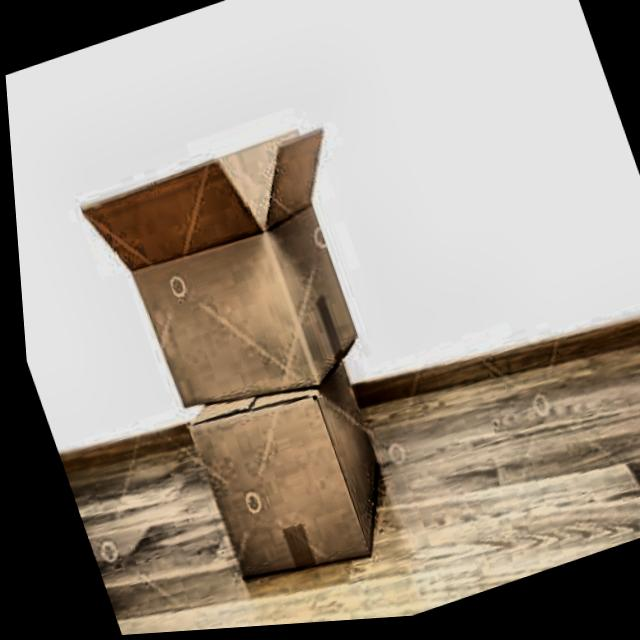Cardbox: (65, 107, 410, 450), (159, 345, 419, 608)
